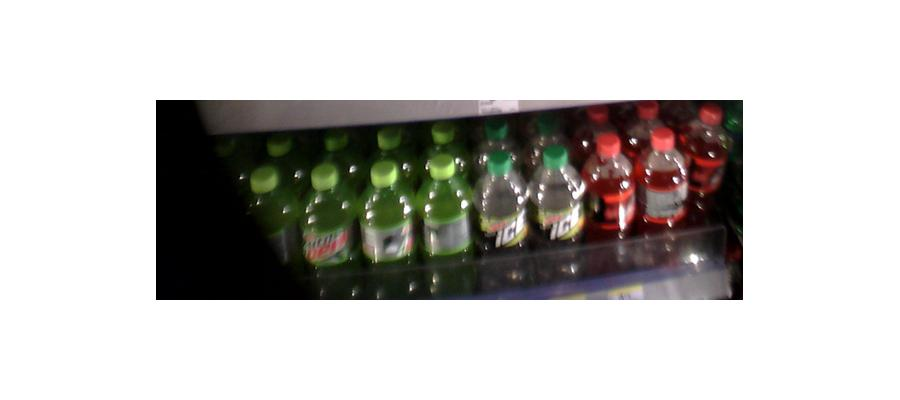bottle: (360, 156, 419, 301), (417, 151, 475, 297), (301, 157, 359, 298), (529, 143, 583, 280), (478, 142, 529, 287), (636, 130, 687, 255), (584, 134, 634, 258)
